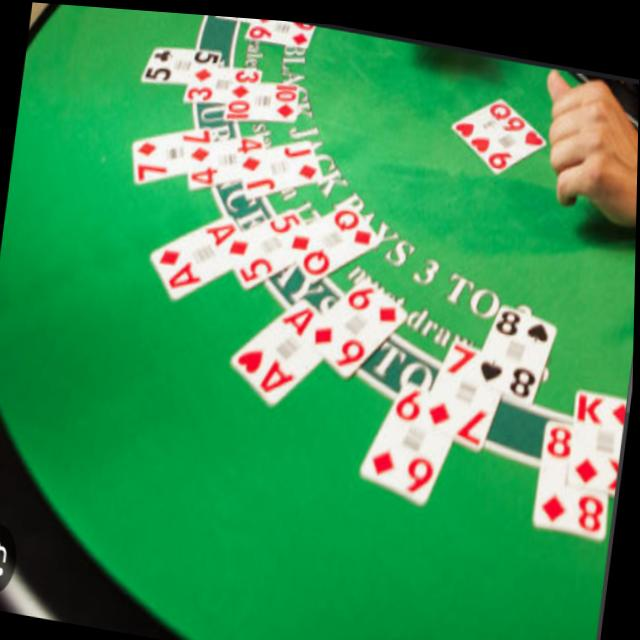Card-10: (225, 78, 299, 117)
Card-2: (214, 13, 252, 19)
Card-3: (185, 63, 261, 100)
Card-4: (190, 128, 268, 186)
Card-5: (237, 205, 324, 282), (143, 42, 221, 81)
Card-6: (360, 373, 463, 498), (328, 271, 409, 371)
Card-7: (433, 333, 503, 443), (133, 124, 215, 181)
Card-8: (536, 411, 611, 530), (475, 296, 558, 395)
Card-9: (473, 106, 546, 165), (245, 15, 315, 43)
Card-A: (231, 289, 347, 404), (151, 208, 256, 296)
Card-J: (245, 134, 323, 194)
Card-K: (570, 375, 628, 482)
Card-Q: (300, 197, 379, 276), (452, 89, 519, 137)
